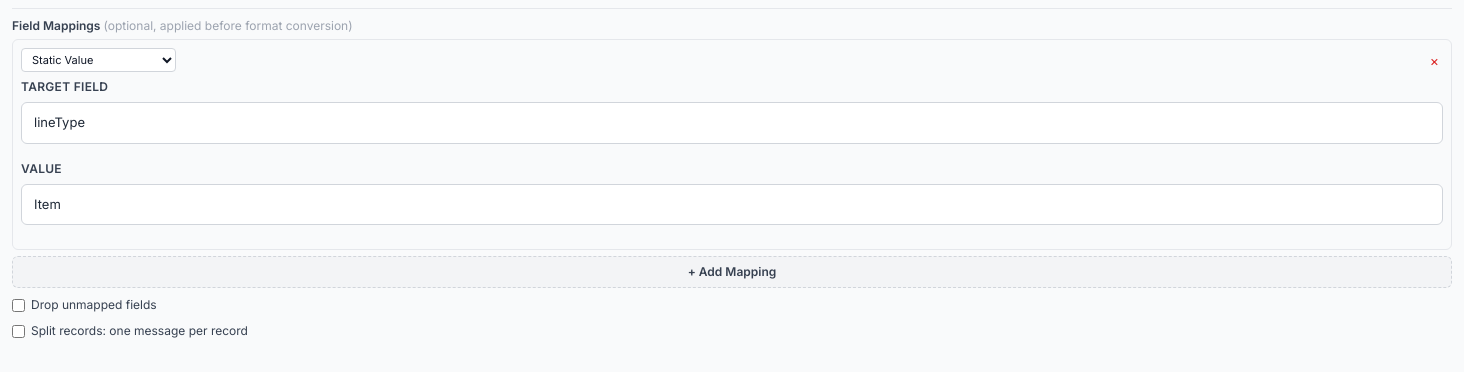
changing a type keeps the row › a static row switched to template and back keeps its value
Select "Template" in the dropdown named "Type of mapping 1 (lineType)" at (98, 60), box left=21, top=48, right=176, bottom=72
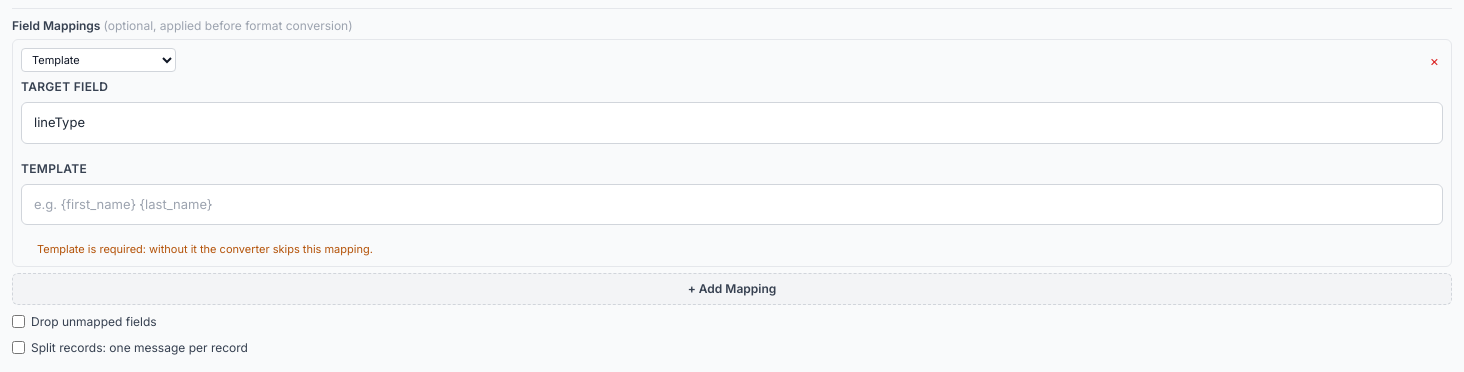
Select "Static Value" in the dropdown named "Type of mapping 1 (lineType)" at (98, 60), box left=21, top=48, right=176, bottom=72
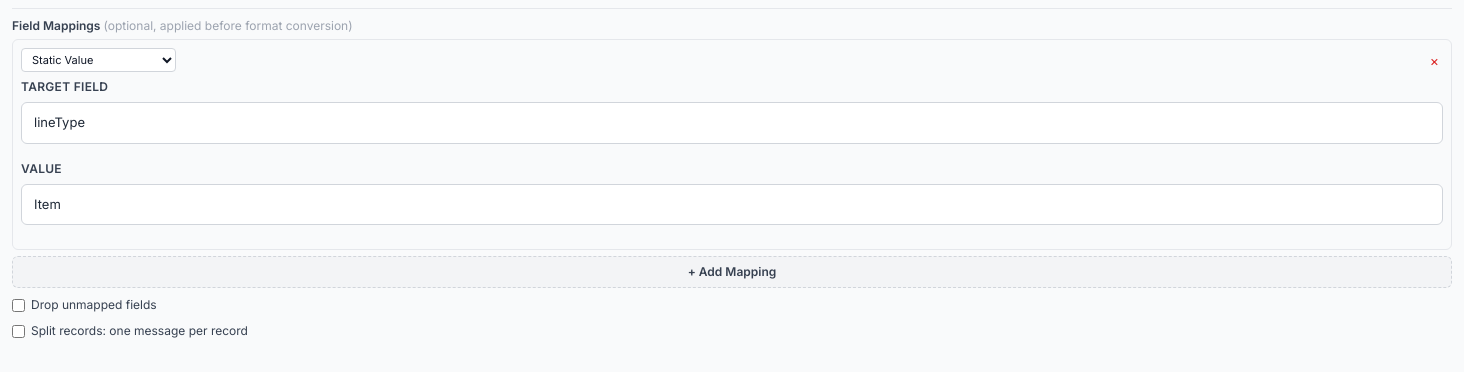
Result: the field labelled "Value" holds "Item" at left=21, top=184, right=1443, bottom=225
